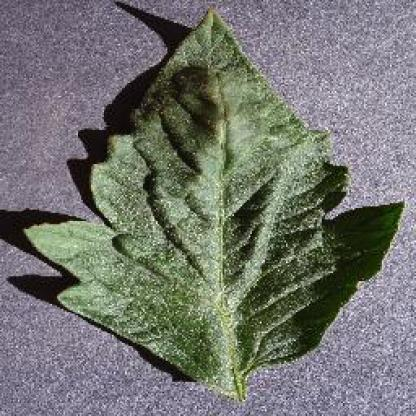bad leaf: (29, 4, 414, 415), (95, 223, 414, 355), (14, 180, 267, 344), (78, 23, 268, 191), (140, 131, 362, 274)
